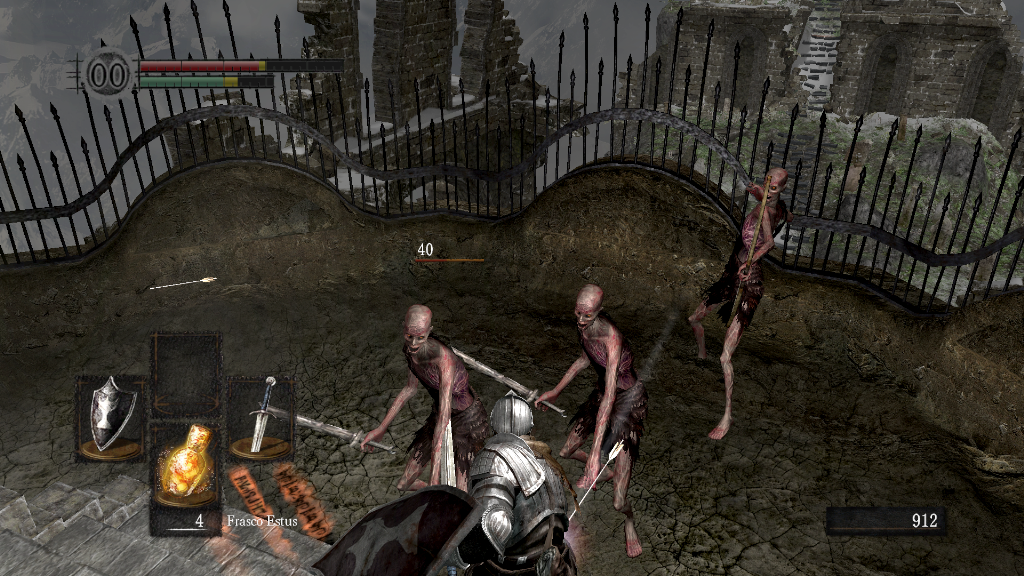health: (138, 58, 343, 71)
hollow: (530, 281, 646, 557), (688, 166, 796, 441), (350, 304, 496, 493)
humanity: (80, 45, 136, 102)
player: (309, 390, 576, 576)
souls: (825, 506, 945, 536)
stamina: (138, 74, 274, 88)
